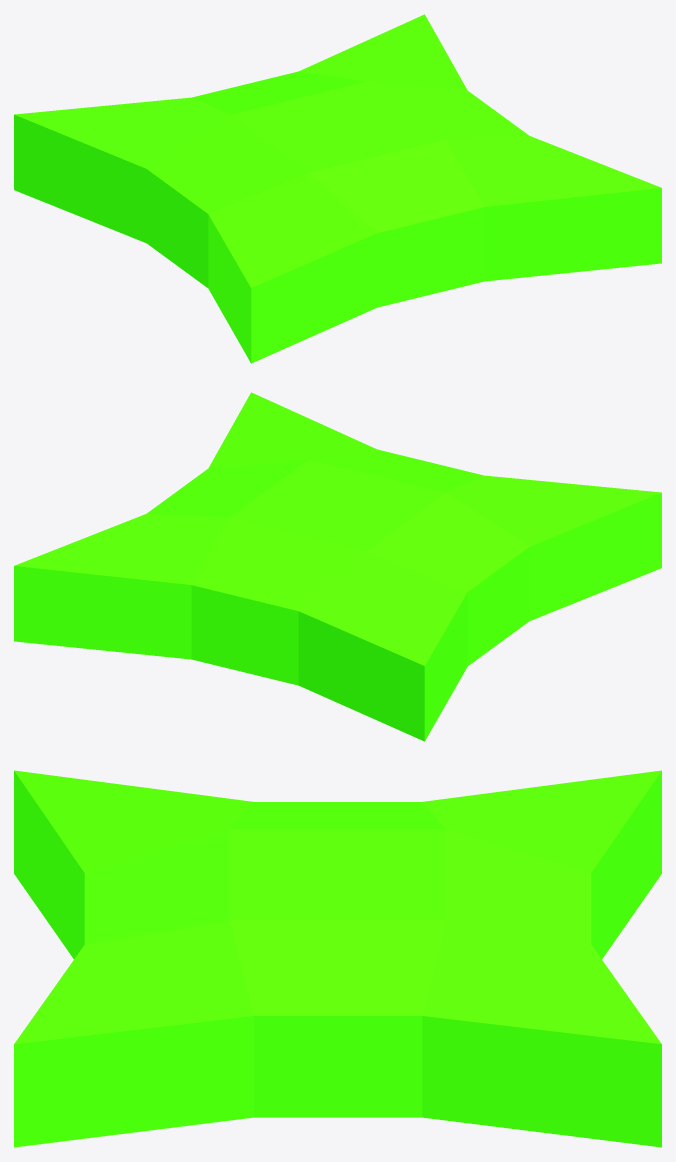
The model's file is xlaserlefti.fbx.
The picture shows the model from 3 angles, top to bottom: view 1: azimuth 30°, elevation 25°; view 2: azimuth 150°, elevation 25°; view 3: azimuth 270°, elevation 25°; orthographic projection. The views are drawn at different scales.
Parts seen in each view (by area): view 1: lasserleftis; view 2: lasserleftis; view 3: lasserleftis.
Boxes of the visible parts, x1,y1,x2,y2 form: lasserleftis: (14, 14, 661, 363); lasserleftis: (14, 392, 661, 741); lasserleftis: (14, 770, 661, 1147).
Bounding box in the file's own units: 223 × 51.53 × 223.
